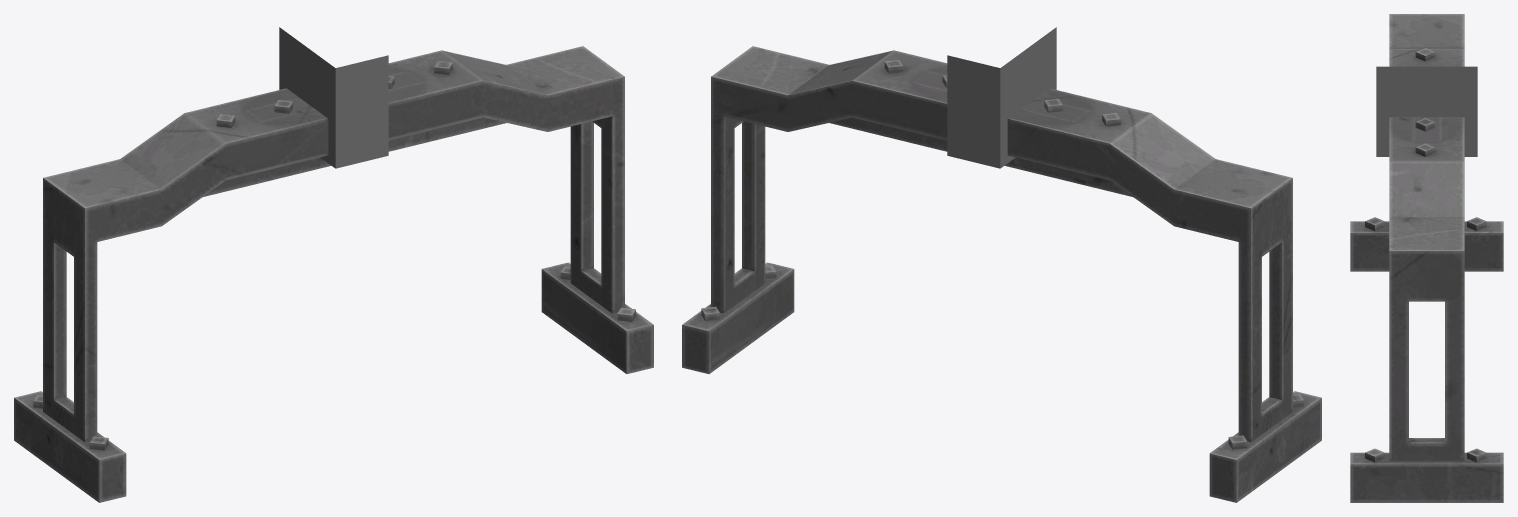
Rendered from conveyor_to_roller.glb.
3 views of the same model, side by side, from view 1: azimuth 30°, elevation 25°; view 2: azimuth 150°, elevation 25°; view 3: azimuth 270°, elevation 25° (orthographic). The views are drawn at different scales.
Parts seen in each view (by area): view 1: conveyor_to_roller; view 2: conveyor_to_roller; view 3: conveyor_to_roller.
Boxes of the visible parts, box(x1,y1,x2,y2) form: conveyor_to_roller: box(14, 27, 653, 502); conveyor_to_roller: box(682, 27, 1321, 502); conveyor_to_roller: box(1350, 14, 1503, 502).
Size of the model in its own units: 0.9507 by 0.5947 by 0.2531.
1 material, 1 textured.
